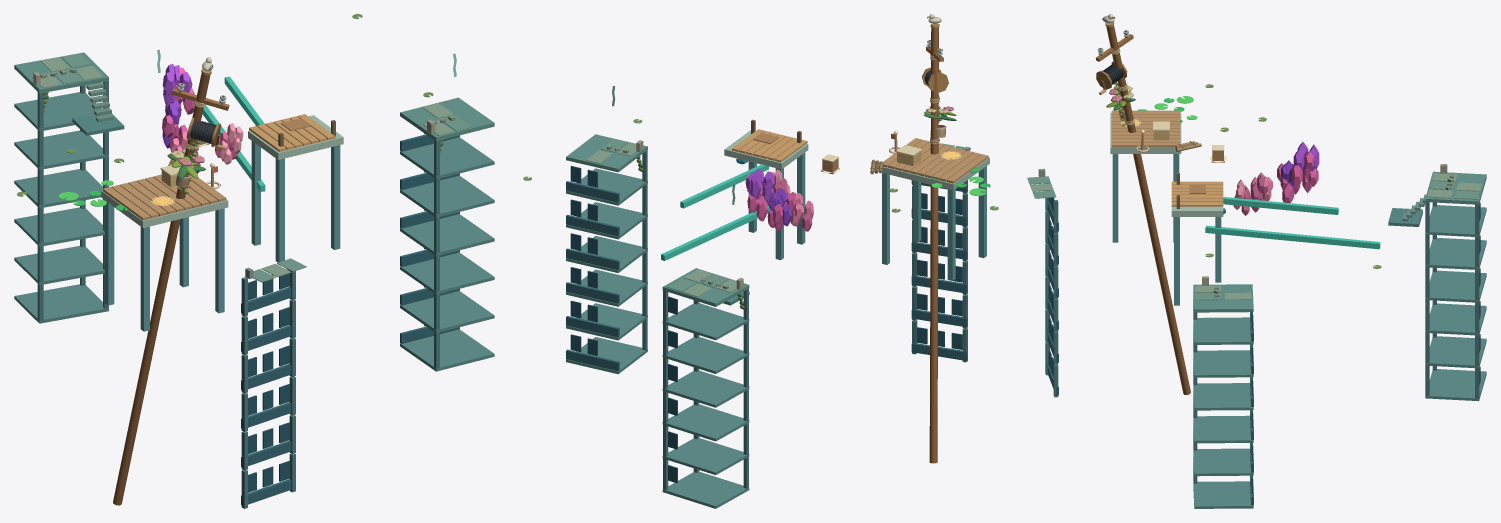
Rendered from detail.glb.
3 renders of one model, left to right at view 1: azimuth 30°, elevation 25°; view 2: azimuth 150°, elevation 25°; view 3: azimuth 270°, elevation 25°, orthographic. The views are drawn at different scales.
Visible parts, largest first — view 1: detail; view 2: detail; view 3: detail.
Part boxes in pixels (x1,y1,x2,y2): detail: [14, 14, 494, 508]; detail: [523, 14, 998, 508]; detail: [1027, 14, 1486, 508].
Size of the model in its own units: 35.68 by 34.08 by 35.58.
